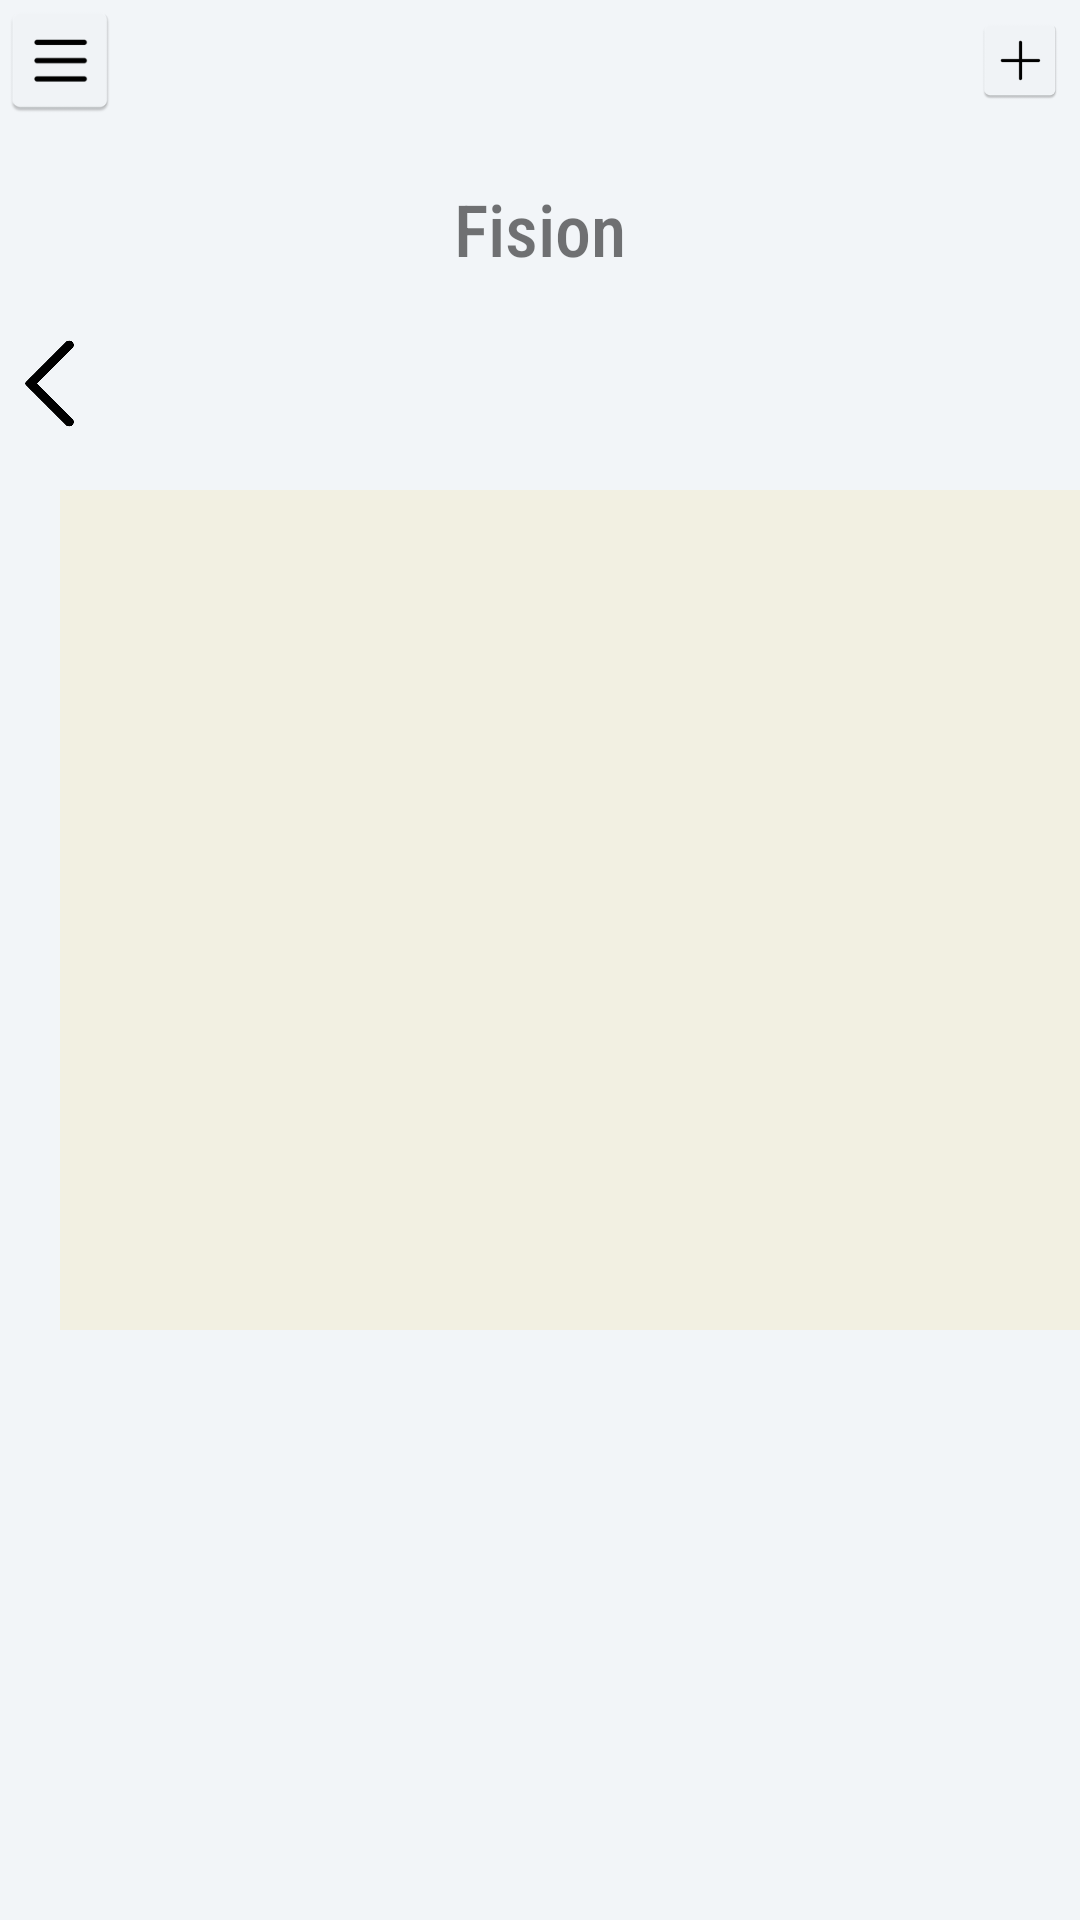

Icons on this 1080x1920 Android screen, each with the point to tap as (x=x, y=y):
back: (x=49, y=383)
